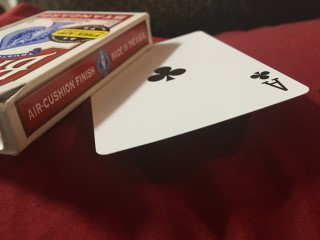AceOfClubs: (90, 29, 309, 156)
